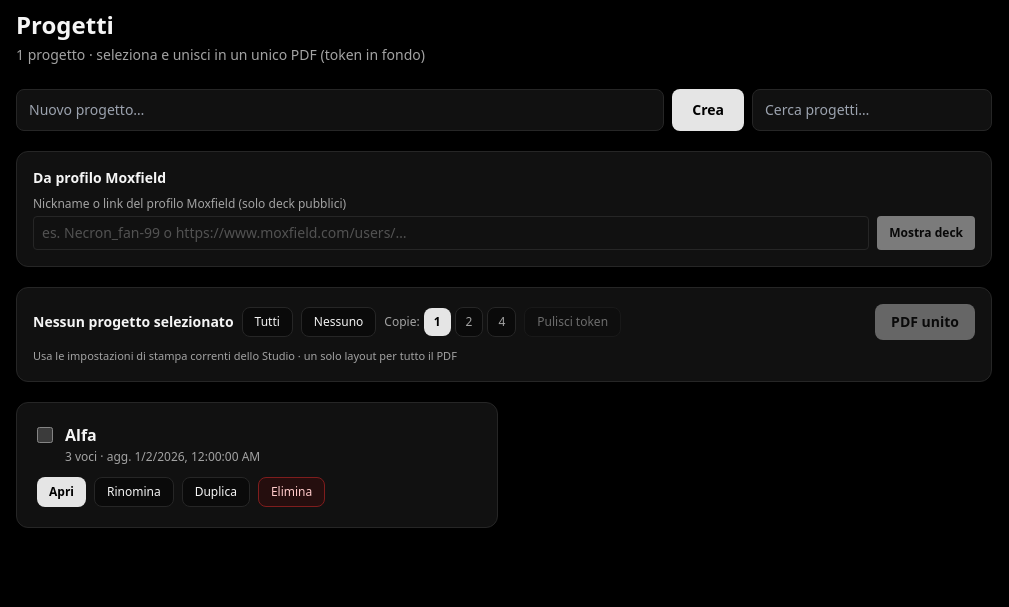
Test case: ProjectsView export in blocco › board Token ripulito: le carte vere importate da Moxfield non finiscono nel PDF
Expected: the text "Alfa" is shown, [65,422,97,446]
Click the checkbox named "Seleziona Alfa" at (45, 434), box [37,426,53,442]
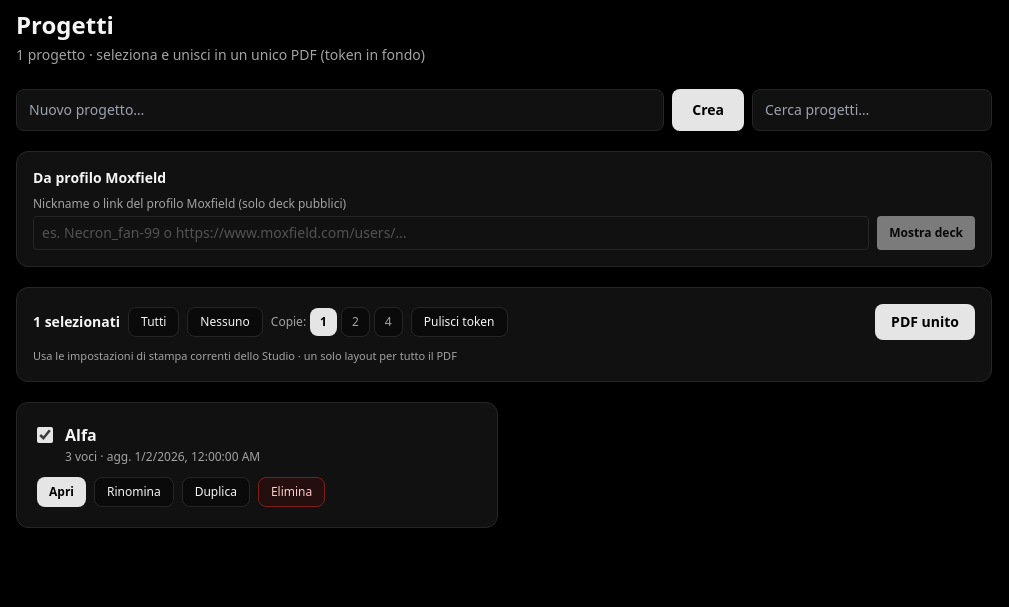
Click the button with test id "batch-export" at (925, 322), box [875,304,975,340]
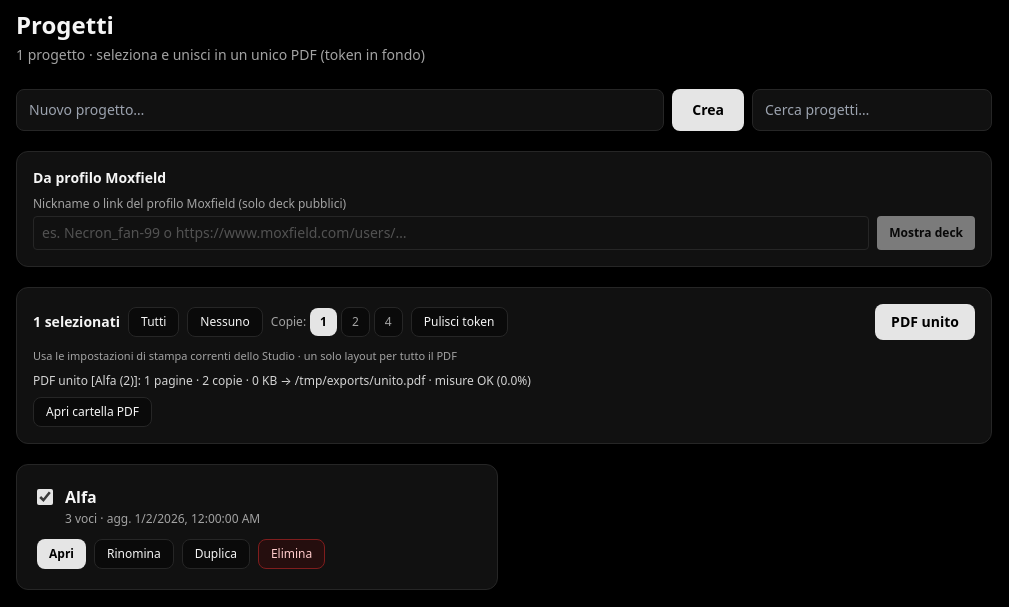
Expected: the text with test id "batch-status" shows "PDF unito", [33,372,531,388]
